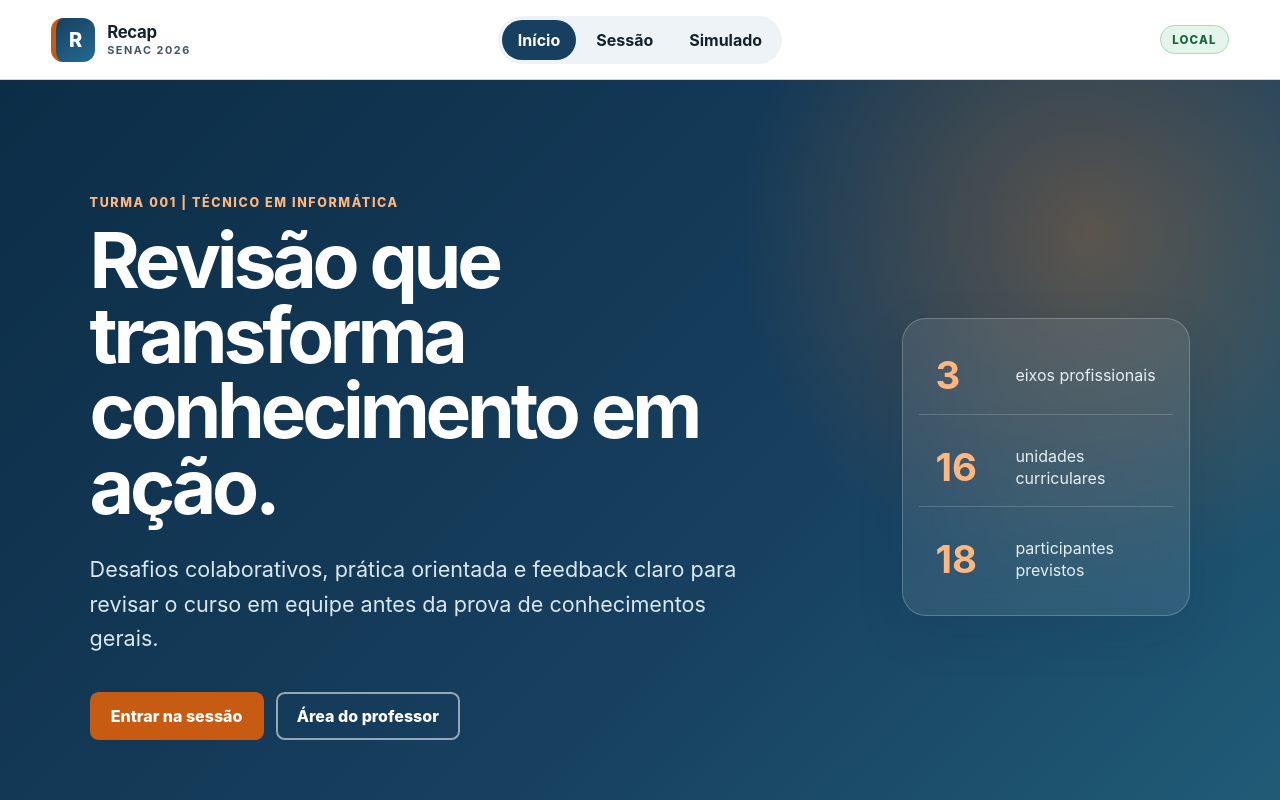
Test: App › opens the participant session view without requesting a permanent account
The width and height of the screenshot is (1280, 800).
Click the button "Entrar na sessão": point(177, 716) x1=90 y1=692 x2=264 y2=740
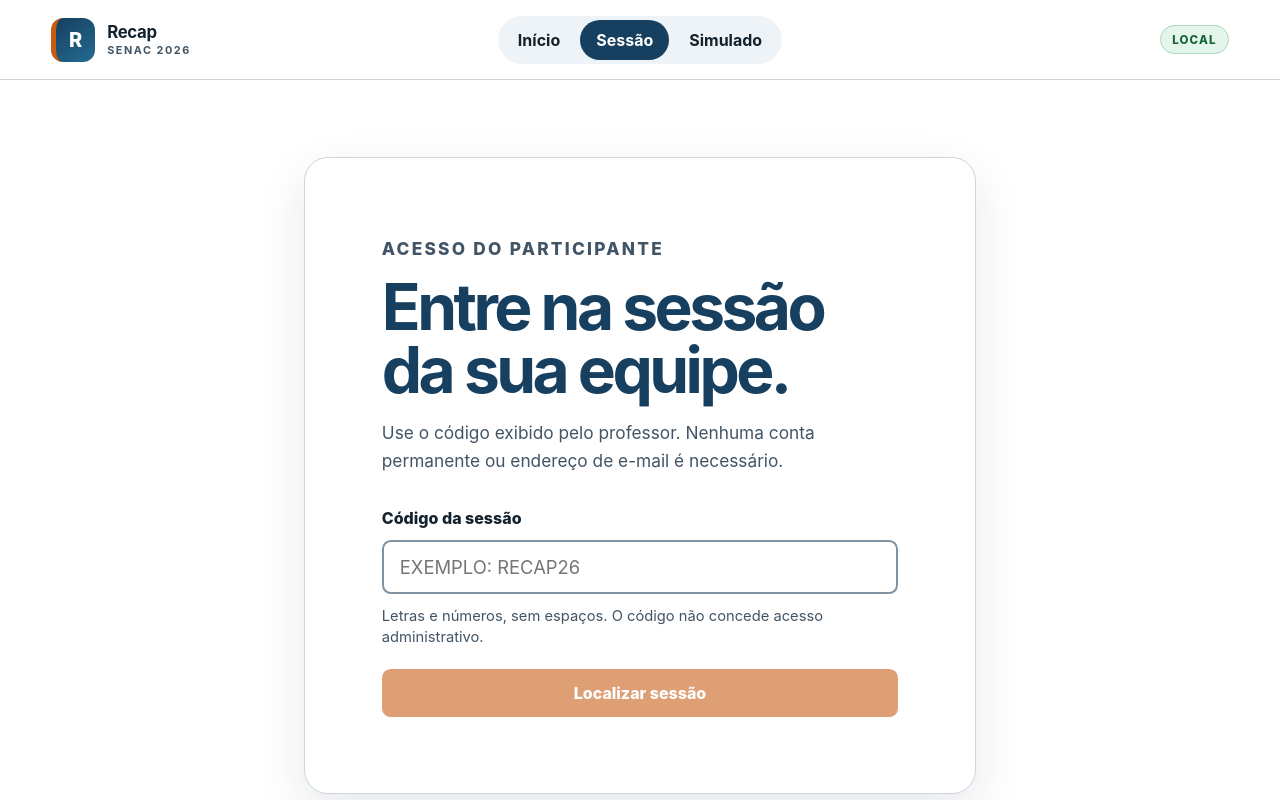
Now the heading "Entre na sessão da sua equipe." is shown, box x1=382 y1=276 x2=898 y2=401
Now the field labelled "Código da sessão" is shown, box x1=382 y1=540 x2=898 y2=594
Now the text "Nenhuma conta permanente" is shown, box x1=382 y1=422 x2=815 y2=471
